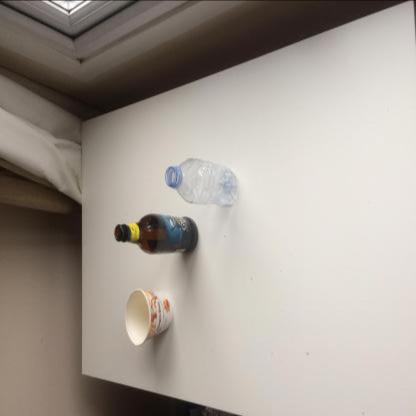Bottle cap: (165, 158, 237, 206), (114, 214, 198, 254)
Cup: (125, 289, 174, 346)
